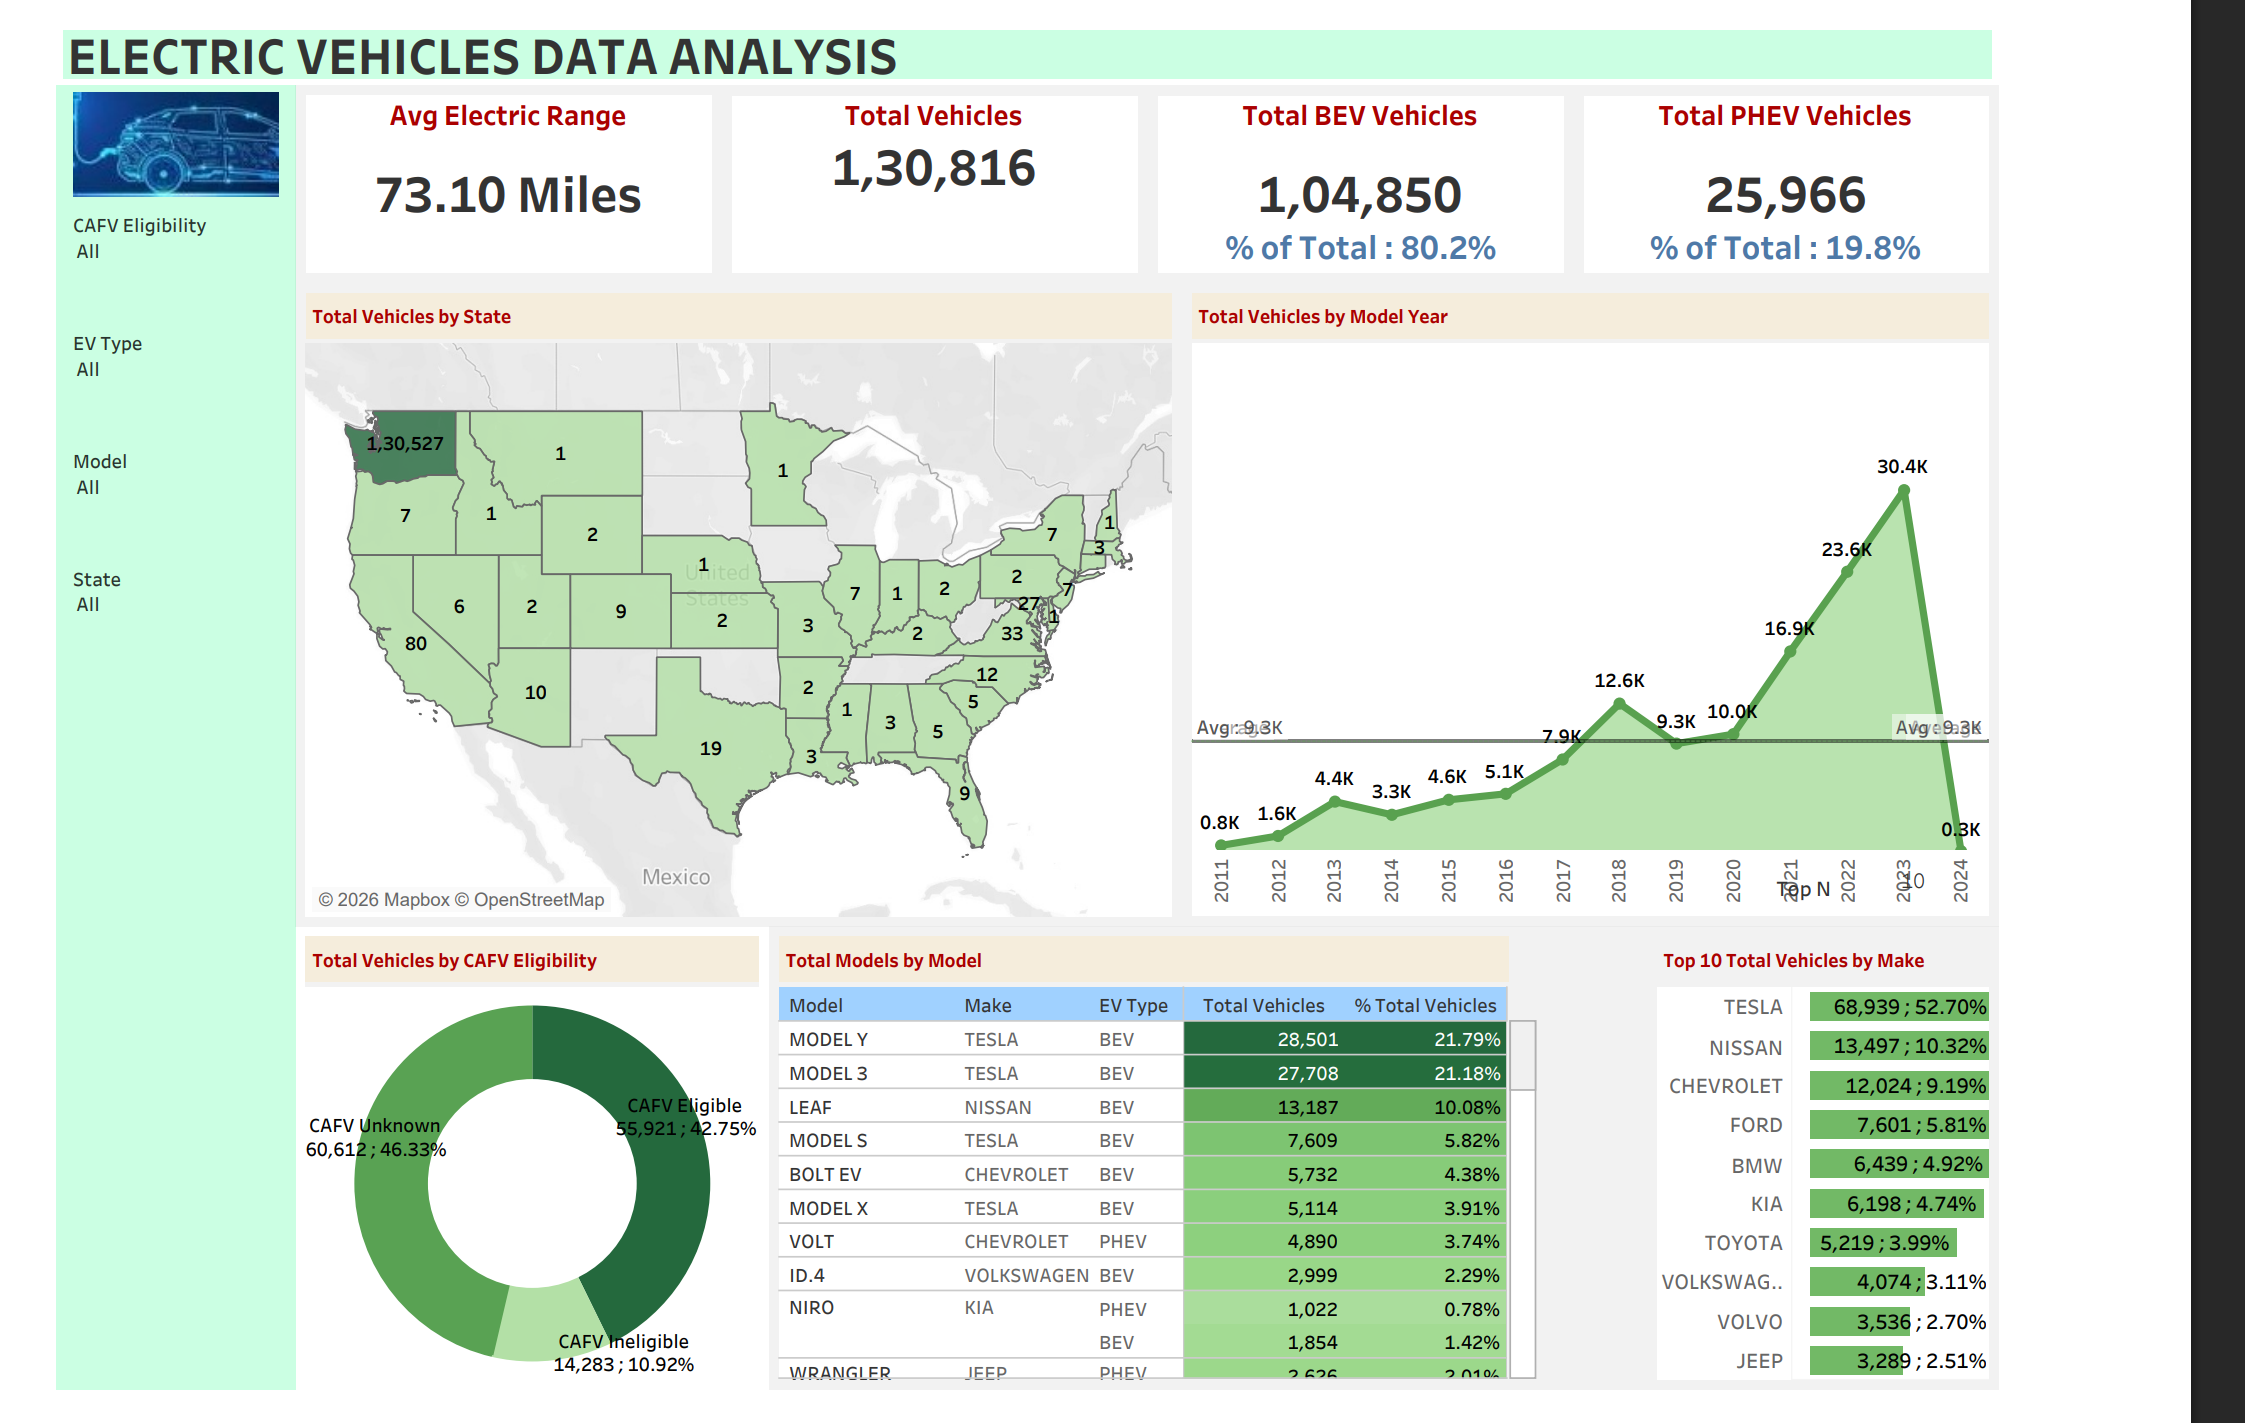

Layout of this report page (visuals, bound fields, positions):
{"tool":"tableau","page":{"name":"Dashboard 1","canvas":[1600,900],"ordinal":0},"visuals":[{"type":"title","box":[8,8,1584,40]},{"type":"image","param":"C:/Users/rajay/OneDrive/Desktop/Data Analytics Course/Electric Vehicle/EV.jpeg","box":[14,48,183,77]},{"type":"worksheet","title":"Avg Electric Range","mark":"Automatic","box":[203,48,348,117]},{"type":"worksheet","title":"Total Vehicles","mark":"Automatic","box":[551,48,347,117]},{"type":"worksheet","title":"Total BEV Vehicles","mark":"Automatic","box":[898,48,347,117]},{"type":"worksheet","title":"Total PHEV Vehicles","mark":"Automatic","box":[1245,48,347,117]},{"type":"filter","title":"Total Vehicles by Model Year","param":"[federated.1yc09ro0pz5zb7194rxt20ilcx3u].[none:Clean Alternative Fuel Vehicle (C","box":[14,125,183,77]},{"type":"worksheet","title":"Total Vehicles by State","mark":"Multipolygon","box":[203,165,526,382]},{"type":"worksheet","title":"Total Vehicles by Model Year","mark":"Area","rows":["Calculation_3354650506399744","Calculation_3354650506399744"],"cols":["Model Year"],"box":[729,165,862.8,382]},{"type":"filter","title":"Total Vehicles by Model Year","param":"[federated.1yc09ro0pz5zb7194rxt20ilcx3u].[none:Electric Vehicle Type:nk]","box":[14,202,183,76]},{"type":"filter","title":"Total Vehicles by Model Year","param":"[federated.1yc09ro0pz5zb7194rxt20ilcx3u].[none:Model:nk]","box":[14,278,183,76]},{"type":"filter","title":"Total Vehicles by Model Year","param":"[federated.1yc09ro0pz5zb7194rxt20ilcx3u].[none:State:nk]","box":[14,354,183,76]},{"type":"blank","box":[14,430,183,76]},{"type":"blank","box":[14,506,183,76]},{"type":"worksheet","title":"Total Vehicles by CAFV Eligibility","mark":"Pie","rows":["Calculation_0485475264921601","Calculation_0485475264921601"],"box":[203,547,386,345]},{"type":"worksheet","title":"Total Models by Model","mark":"Square","rows":["Model","Make","Electric Vehicle Type"],"box":[588.9,547,521,345]},{"type":"worksheet","title":"Top 10 Total Vehicles by Make","mark":"Automatic","rows":["Make"],"cols":["Calculation_3354650506399744"],"box":[1110,547,482,345]},{"type":"parameter","param":"[Parameters].[Parameter 1]","box":[1409,553,160,28]},{"type":"blank","box":[14,582,183,76]},{"type":"blank","box":[14,658,183,76]},{"type":"blank","box":[14,734,183,76]},{"type":"blank","box":[14,810,183,76]}]}

Visuals, with their boxes on the page's 1600x900 design canvas (x1, y1, x2, y2). These are canvas units, not pixel positions in the 2245x1423 screenshot, which may show the page scaled, cropped or inside an application window:
title: locate(8, 8, 1592, 48)
image: locate(14, 48, 197, 125)
"Avg Electric Range" worksheet: locate(203, 48, 551, 165)
"Total Vehicles" worksheet: locate(551, 48, 898, 165)
"Total BEV Vehicles" worksheet: locate(898, 48, 1245, 165)
"Total PHEV Vehicles" worksheet: locate(1245, 48, 1592, 165)
"Total Vehicles by Model Year" filter: locate(14, 125, 197, 202)
"Total Vehicles by State" worksheet (Multipolygon marks): locate(203, 165, 729, 547)
"Total Vehicles by Model Year" worksheet (Area marks): locate(729, 165, 1592, 547)
"Total Vehicles by Model Year" filter: locate(14, 202, 197, 278)
"Total Vehicles by Model Year" filter: locate(14, 278, 197, 354)
"Total Vehicles by Model Year" filter: locate(14, 354, 197, 430)
blank: locate(14, 430, 197, 506)
blank: locate(14, 506, 197, 582)
"Total Vehicles by CAFV Eligibility" worksheet (Pie marks): locate(203, 547, 589, 892)
"Total Models by Model" worksheet (Square marks): locate(589, 547, 1110, 892)
"Top 10 Total Vehicles by Make" worksheet: locate(1110, 547, 1592, 892)
parameter: locate(1409, 553, 1569, 581)
blank: locate(14, 582, 197, 658)
blank: locate(14, 658, 197, 734)
blank: locate(14, 734, 197, 810)
blank: locate(14, 810, 197, 886)
